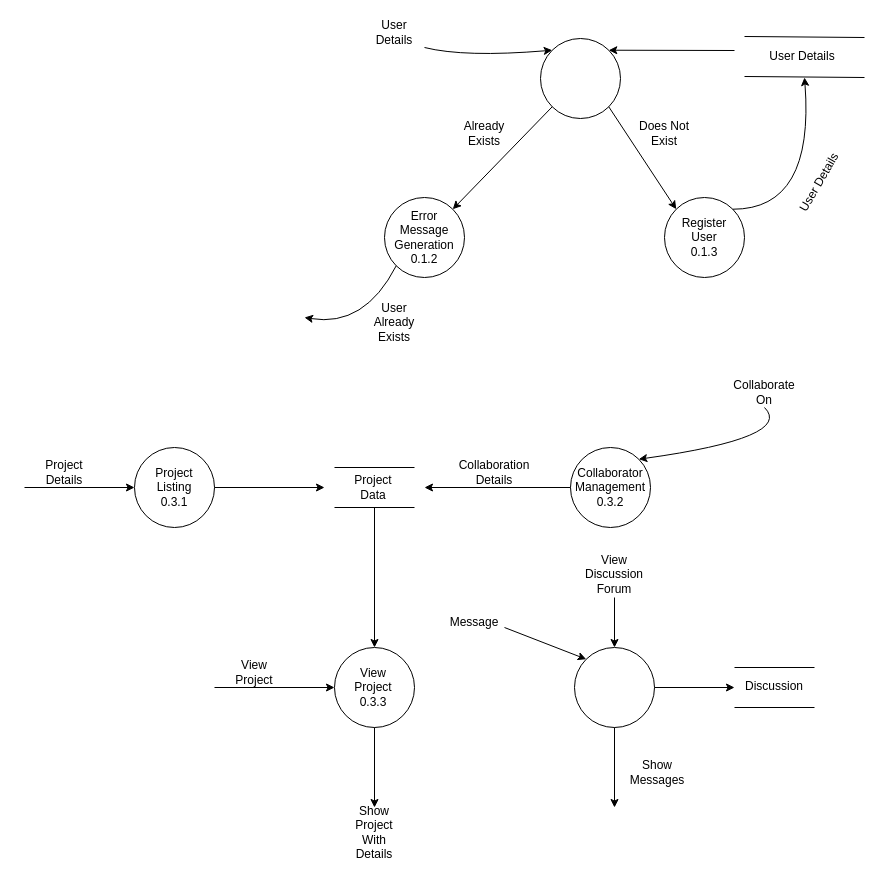
This 883x878 diagram has some shape labels left out. Here are the shapes that lost their labels. From the top down, the centre of each, then its label:
At [580,78]: "Check Already Exists 0.1.1".
At [614,687]: "Discussion Forum Tracker 0.3.4".
